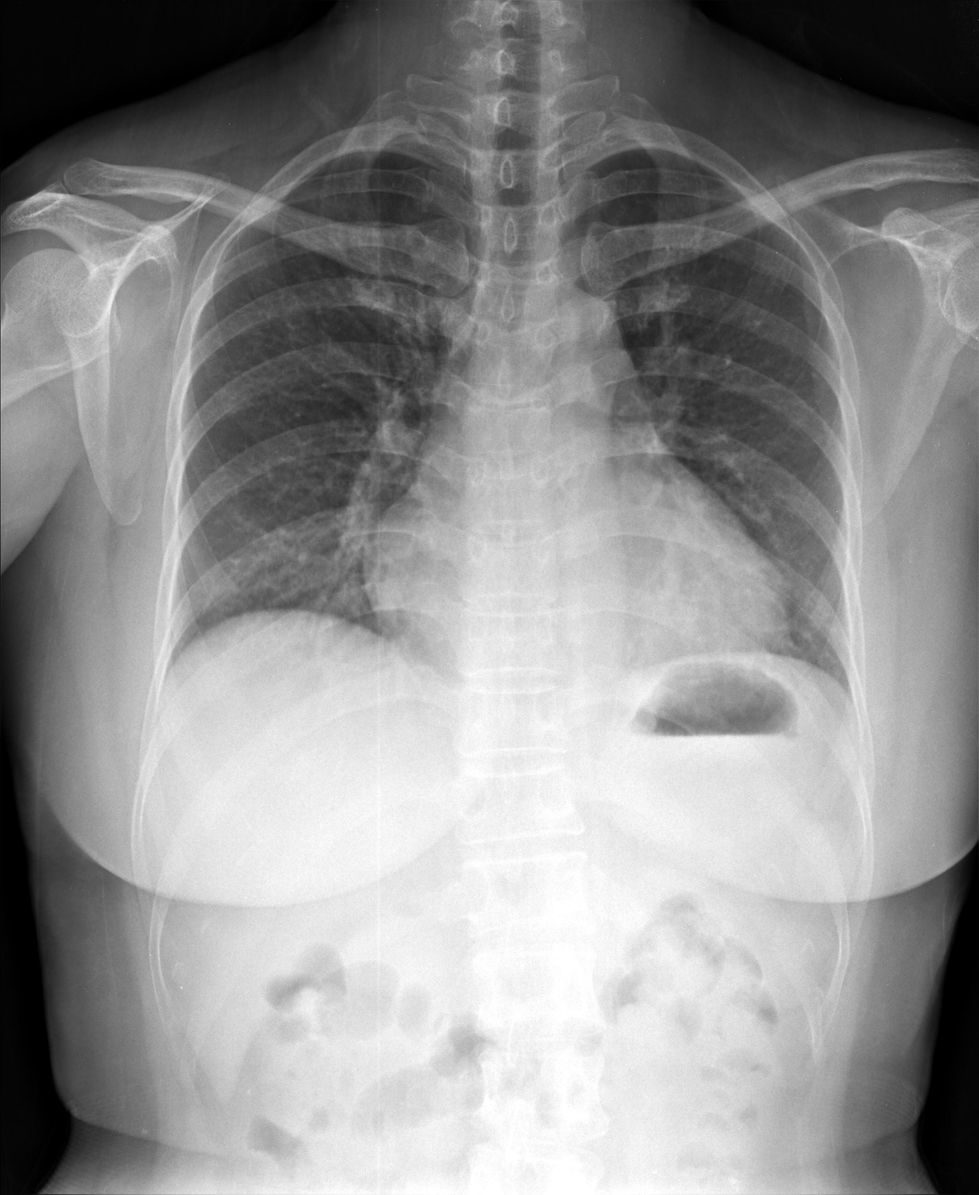Cardiomegaly: (361, 524, 793, 671)
